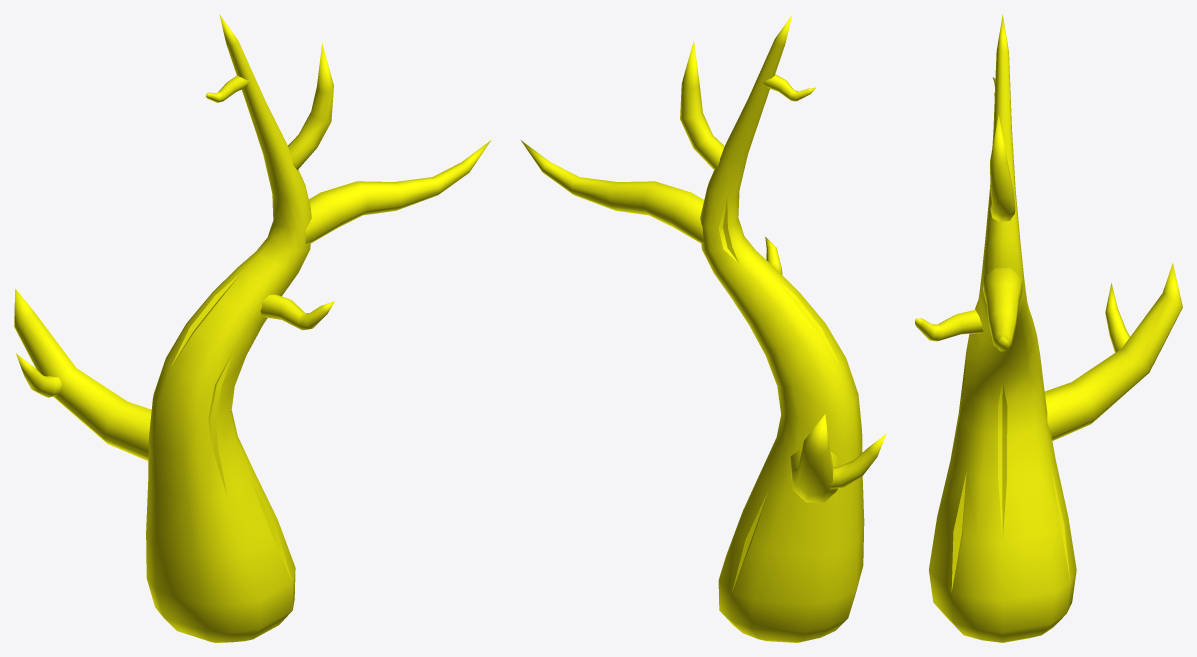
Rendered from kaykit-tree-bare-1-c-color-1.glb.
The picture shows the model from 3 angles, left to right: view 1: azimuth 30°, elevation 25°; view 2: azimuth 150°, elevation 25°; view 3: azimuth 270°, elevation 25°; orthographic projection.
Parts seen in each view (by area): view 1: Tree_Bare_1_C_Color1; view 2: Tree_Bare_1_C_Color1; view 3: Tree_Bare_1_C_Color1.
Part boxes in pixels (x1,y1,x2,y2): Tree_Bare_1_C_Color1: [14, 14, 491, 642]; Tree_Bare_1_C_Color1: [521, 14, 886, 642]; Tree_Bare_1_C_Color1: [915, 15, 1182, 642].
Bounding box in the file's own units: 3.74 × 5.26 × 2.07.
